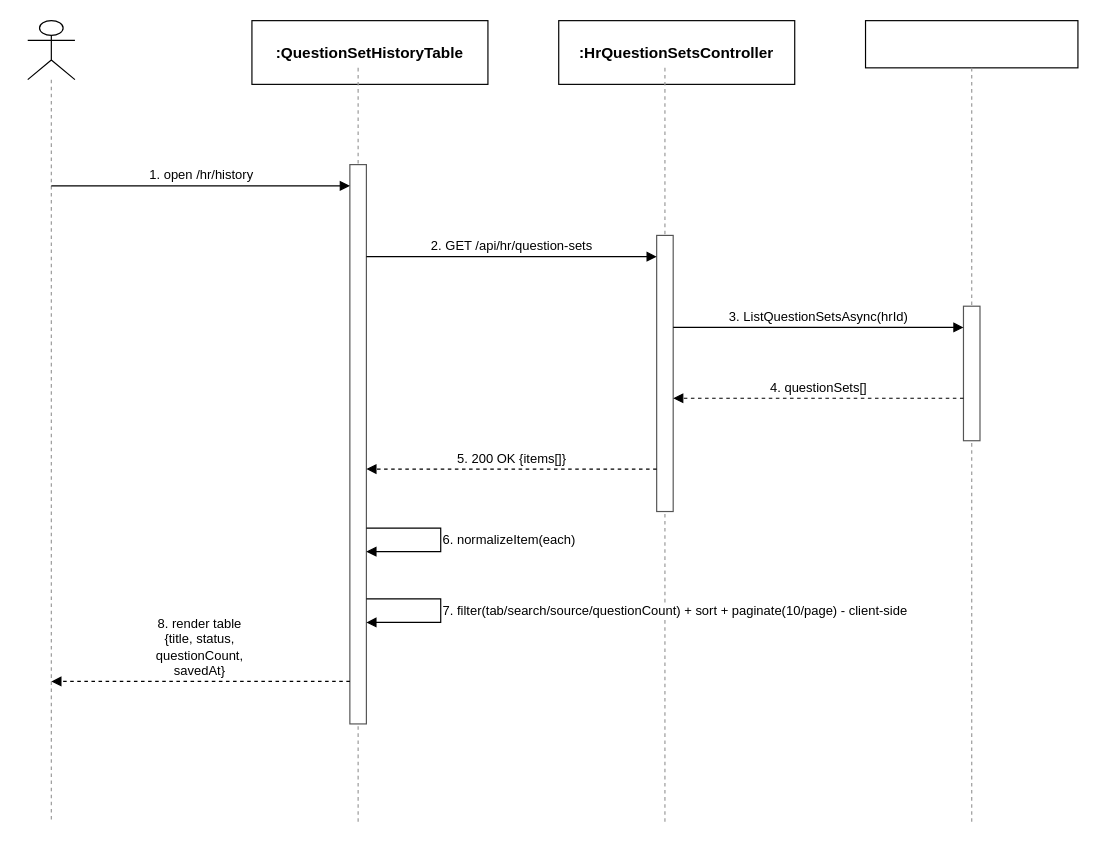
Some shapes in this 1099 by 845 pixel diagram are drawn without their labels. Each missing label, with the centre of its shape:
":QuestionSetService" goes at point (971, 43).
"HR Manager" goes at point (51, 49).
